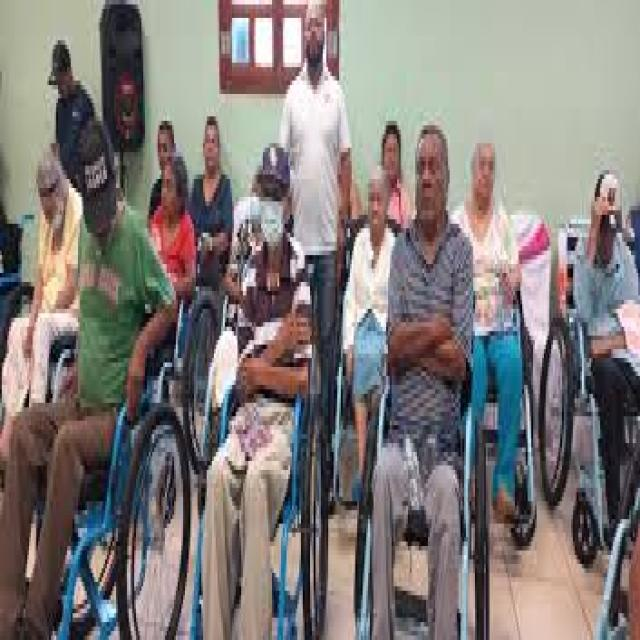wheelchairs: (34, 267, 191, 640), (194, 331, 330, 640), (352, 346, 494, 640), (538, 266, 640, 640), (318, 230, 408, 545), (437, 288, 539, 562), (144, 235, 226, 508), (2, 213, 78, 466)
